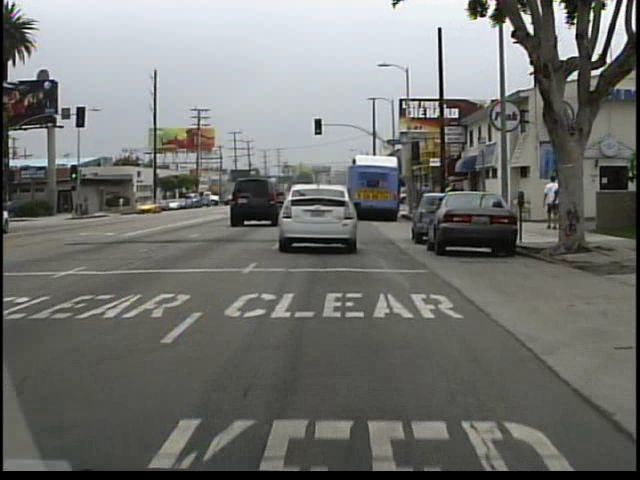person: (539, 173, 558, 235), (550, 177, 567, 233), (417, 180, 436, 220), (118, 195, 128, 212)
